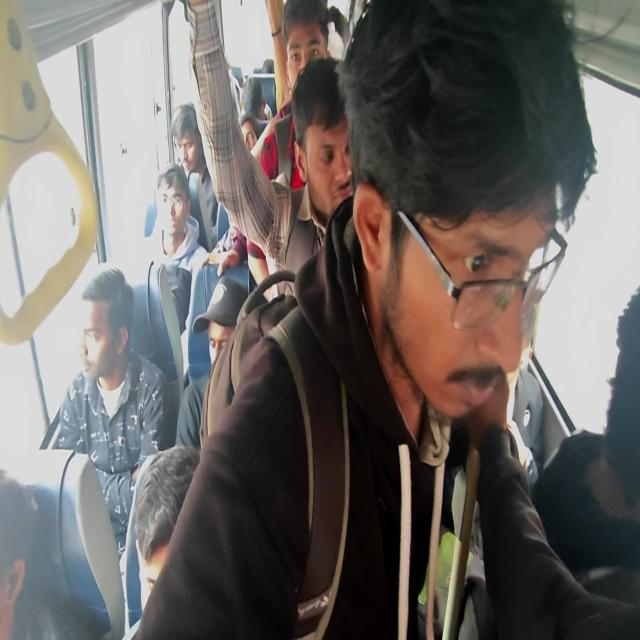person: (342, 0, 584, 441), (597, 307, 640, 640), (133, 443, 202, 623), (145, 166, 207, 292), (0, 471, 40, 639), (303, 103, 352, 224), (199, 272, 247, 369), (82, 264, 134, 340), (284, 31, 332, 79), (239, 73, 273, 126), (170, 103, 200, 146), (239, 110, 264, 152), (261, 58, 274, 74)
